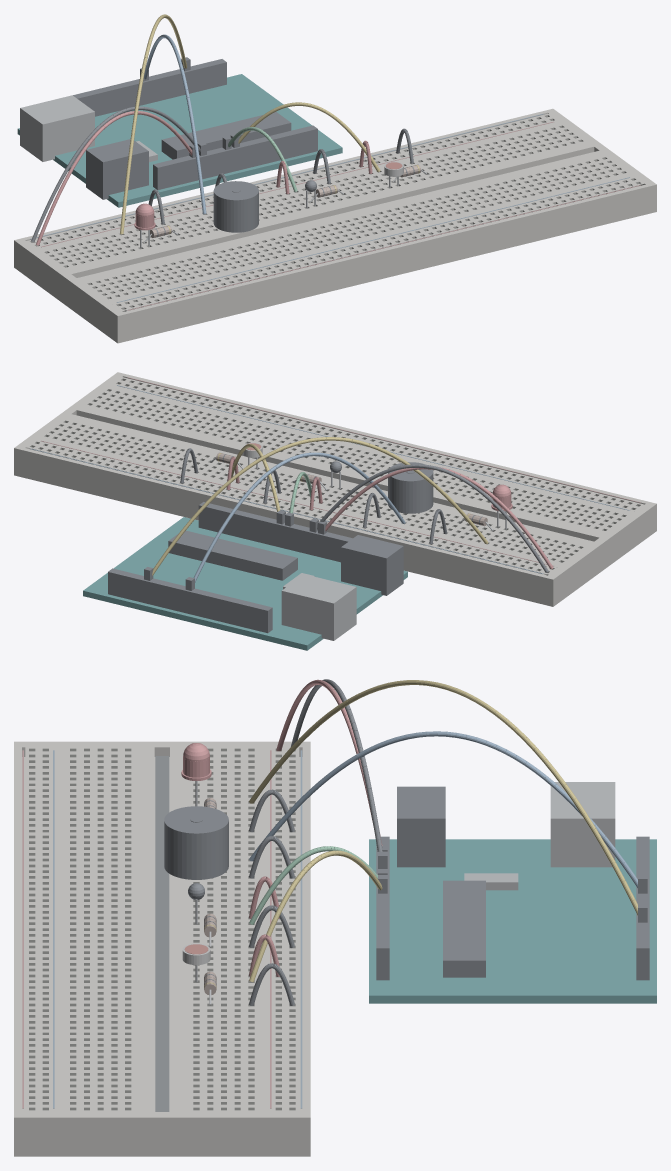
3 renders of one model, top to bottom at view 1: azimuth 30°, elevation 25°; view 2: azimuth 150°, elevation 25°; view 3: azimuth 270°, elevation 25°, orthographic. The views are drawn at different scales.
Visible parts, largest first — view 1: breadboard_1__mesh, arduino_uno__mesh, buzzer_1__mesh, wire_led_sig__mesh, wire_main_gnd__mesh, wire_main_5v__mesh, wire_buzzer_sig__mesh, wire_ldr_sig__mesh, led_red__mesh, wire_therm_sig__mesh; view 2: breadboard_1__mesh, arduino_uno__mesh, wire_led_sig__mesh, buzzer_1__mesh, wire_buzzer_sig__mesh, wire_main_gnd__mesh, wire_main_5v__mesh, wire_ldr_sig__mesh, led_red__mesh; view 3: breadboard_1__mesh, arduino_uno__mesh, buzzer_1__mesh, wire_led_sig__mesh, wire_buzzer_sig__mesh, wire_main_gnd__mesh, wire_ldr_sig__mesh, led_red__mesh, wire_main_5v__mesh, wire_therm_sig__mesh.
Boxes of the visible parts, left/top/right/bottom form: breadboard_1__mesh: left=14, top=108, right=656, bottom=343; arduino_uno__mesh: left=17, top=59, right=342, bottom=207; buzzer_1__mesh: left=213, top=181, right=258, bottom=232; wire_led_sig__mesh: left=120, top=14, right=190, bottom=234; wire_main_gnd__mesh: left=31, top=106, right=206, bottom=242; wire_main_5v__mesh: left=36, top=111, right=198, bottom=245; wire_buzzer_sig__mesh: left=140, top=34, right=206, bottom=214; wire_ldr_sig__mesh: left=230, top=102, right=380, bottom=172; led_red__mesh: left=134, top=203, right=155, bottom=248; wire_therm_sig__mesh: left=222, top=127, right=297, bottom=192; breadboard_1__mesh: left=14, top=372, right=656, bottom=606; arduino_uno__mesh: left=83, top=502, right=407, bottom=650; wire_led_sig__mesh: left=144, top=437, right=488, bottom=580; buzzer_1__mesh: left=388, top=462, right=433, bottom=513; wire_buzzer_sig__mesh: left=185, top=452, right=405, bottom=590; wire_main_gnd__mesh: left=309, top=464, right=548, bottom=572; wire_main_5v__mesh: left=318, top=466, right=553, bottom=569; wire_ldr_sig__mesh: left=231, top=444, right=285, bottom=524; led_red__mesh: left=491, top=484, right=512, bottom=529; breadboard_1__mesh: left=14, top=741, right=310, bottom=1156; arduino_uno__mesh: left=369, top=782, right=656, bottom=1003; buzzer_1__mesh: left=164, top=806, right=228, bottom=879; wire_led_sig__mesh: left=249, top=680, right=647, bottom=922; wire_buzzer_sig__mesh: left=249, top=731, right=647, bottom=893; wire_main_gnd__mesh: left=291, top=679, right=387, bottom=868; wire_ldr_sig__mesh: left=249, top=850, right=387, bottom=982; led_red__mesh: left=181, top=743, right=211, bottom=806; wire_main_5v__mesh: left=276, top=679, right=387, bottom=851; wire_therm_sig__mesh: left=249, top=846, right=387, bottom=924.
Size of the model in its own units: 0.165 by 0.0463 by 0.1192.
